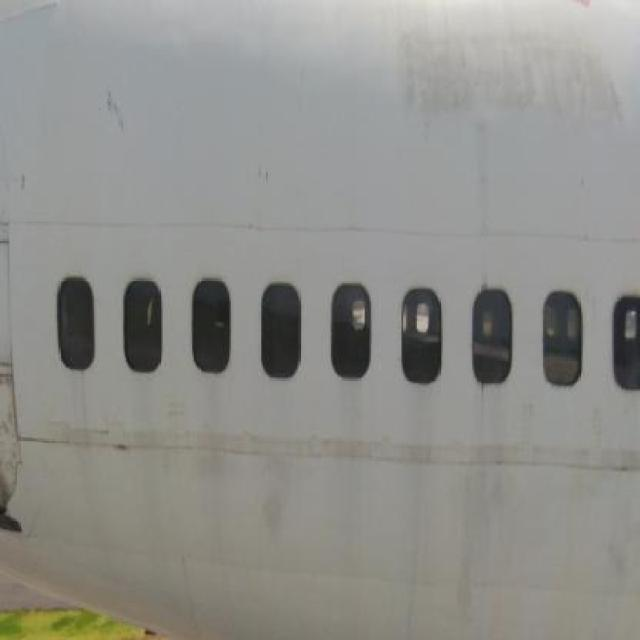Rust: (67, 366, 99, 517), (540, 368, 578, 409), (471, 369, 495, 418), (472, 262, 492, 298)
Scartch: (380, 10, 629, 152), (242, 143, 295, 288), (90, 58, 142, 195), (0, 353, 23, 509)
